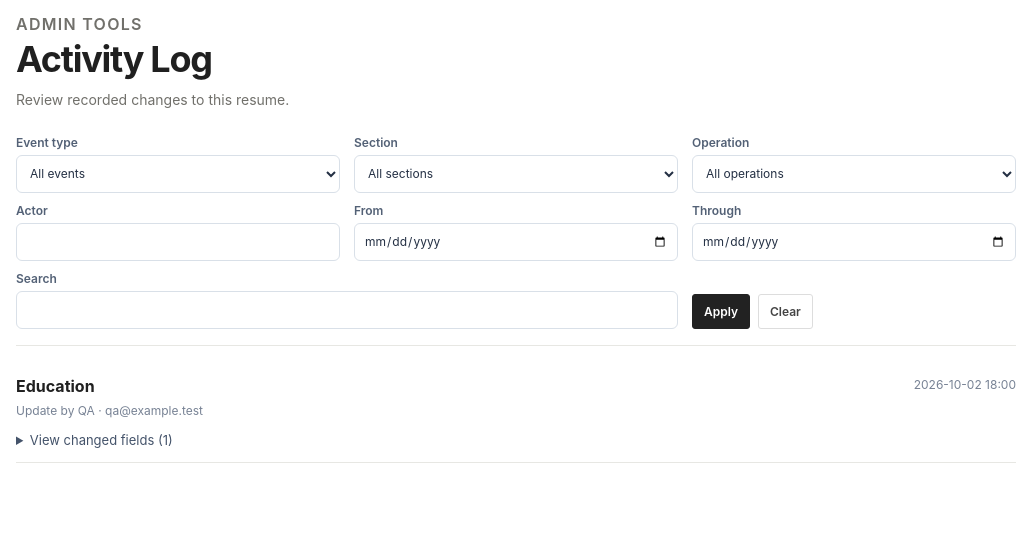
Test: Activity Log page › describes Education aggregate additions and bilingual field edits
Click the heading "View changed fields (1)" at (101, 440), box top-left (30, 432), bottom-right (173, 448)
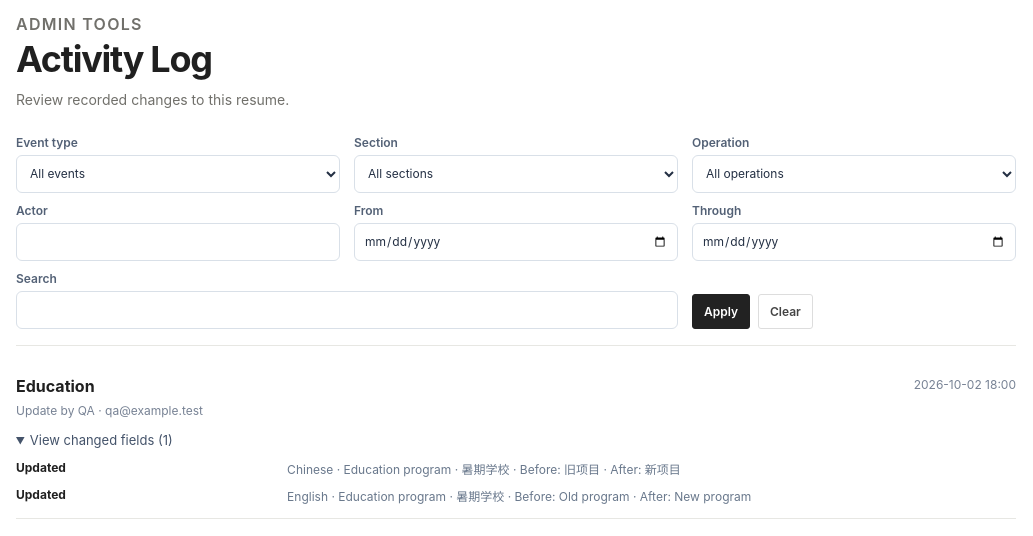
Expected: the text "Chinese · Education program · 暑期学校 · Before: 旧项目 · After: 新项目" is shown, top-left (287, 462), bottom-right (681, 477)
Expected: the text "English · Education program · 暑期学校 · Before: Old program · After: New program" is shown, top-left (287, 489), bottom-right (751, 504)
